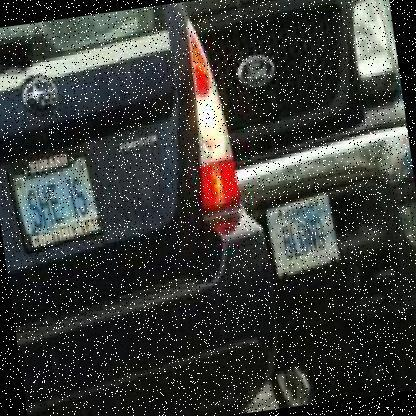License-Plate: (4, 143, 108, 252), (261, 188, 345, 280)
